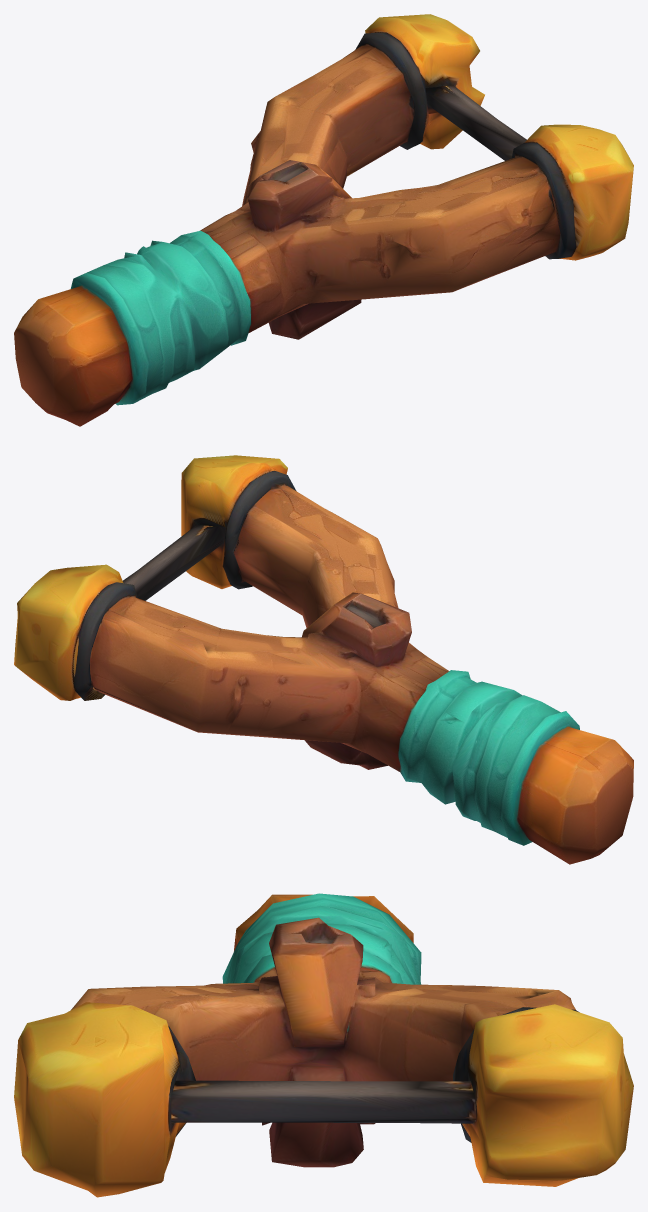
The model's file is weapon_slingshot_1500.glb.
3 renders of one model, top to bottom at view 1: azimuth 30°, elevation 25°; view 2: azimuth 150°, elevation 25°; view 3: azimuth 270°, elevation 25°, orthographic. The views are drawn at different scales.
Parts seen in each view (by area): view 1: tripo_node_6f168086-d0cc-44ed-bd9b-776fb3942244; view 2: tripo_node_6f168086-d0cc-44ed-bd9b-776fb3942244; view 3: tripo_node_6f168086-d0cc-44ed-bd9b-776fb3942244.
Boxes of the visible parts, bbox=[...] form: tripo_node_6f168086-d0cc-44ed-bd9b-776fb3942244: bbox=[14, 14, 633, 426]; tripo_node_6f168086-d0cc-44ed-bd9b-776fb3942244: bbox=[14, 455, 633, 864]; tripo_node_6f168086-d0cc-44ed-bd9b-776fb3942244: bbox=[14, 893, 633, 1197].
Bounding box in the file's own units: 0.9785 × 0.4286 × 0.7202.
Materials: 1 (1 with a texture image).
